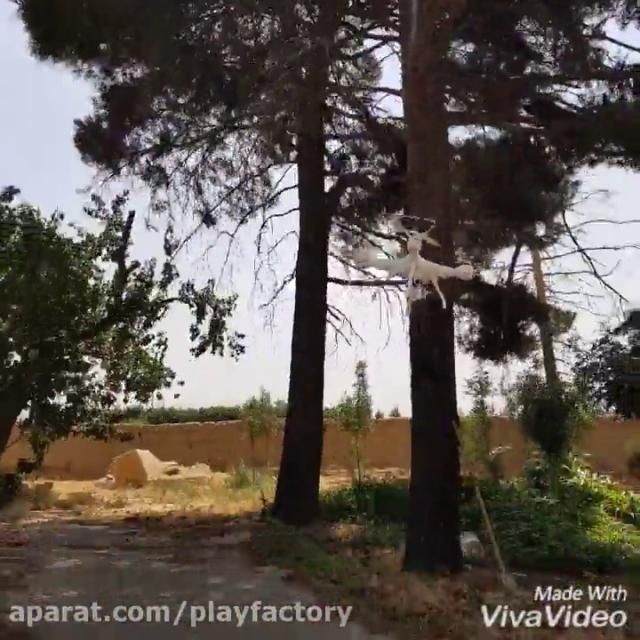drone: (332, 212, 487, 310)
